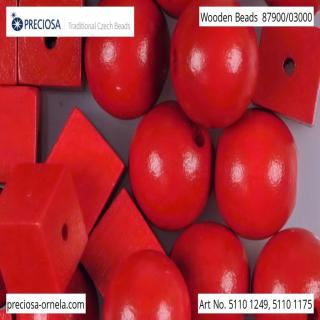tomato: (172, 8, 266, 132), (129, 98, 213, 232), (216, 107, 296, 240), (84, 0, 171, 119), (169, 223, 249, 320), (102, 246, 190, 320)
